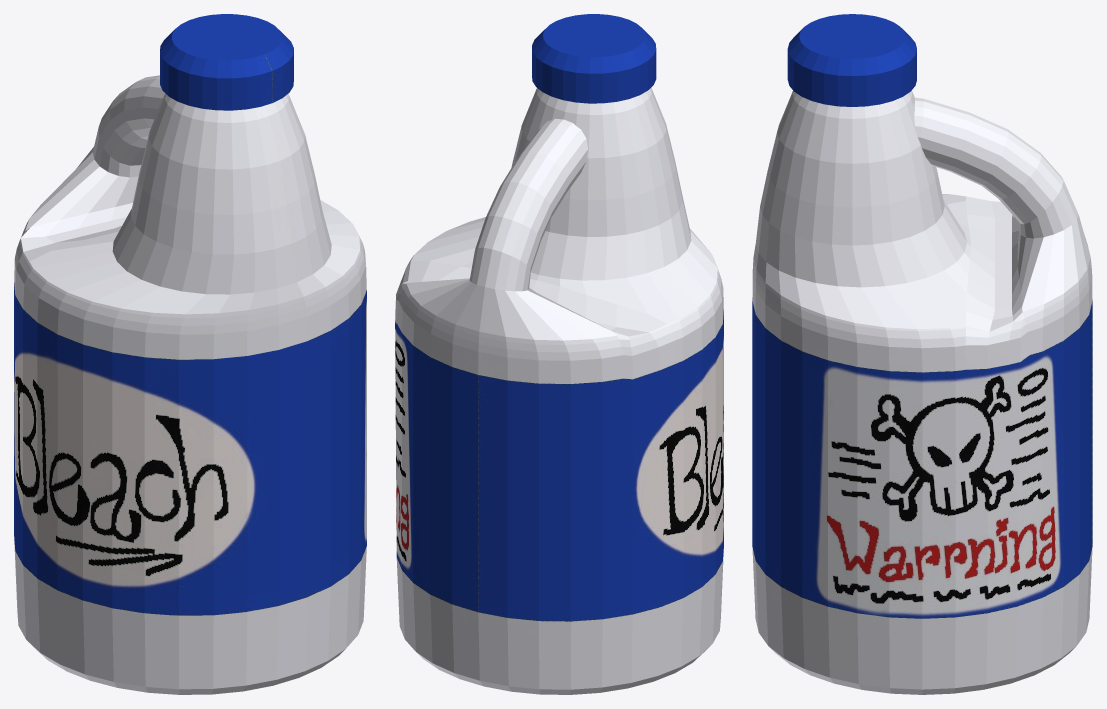
The model's file is Bleach.fbx.
The picture shows the model from 3 angles, left to right: view 1: azimuth 30°, elevation 25°; view 2: azimuth 150°, elevation 25°; view 3: azimuth 270°, elevation 25°; orthographic projection. The views are drawn at different scales.
Parts seen in each view (by area): view 1: Cylinder; view 2: Cylinder; view 3: Cylinder.
Boxes of the visible parts, x1,y1,x2,y2 form: Cylinder: (14,14,366,694); Cylinder: (395,14,723,694); Cylinder: (752,14,1092,694).
Bounding box in the file's own units: 1471 × 2839 × 1471.
1 material, 1 textured.
